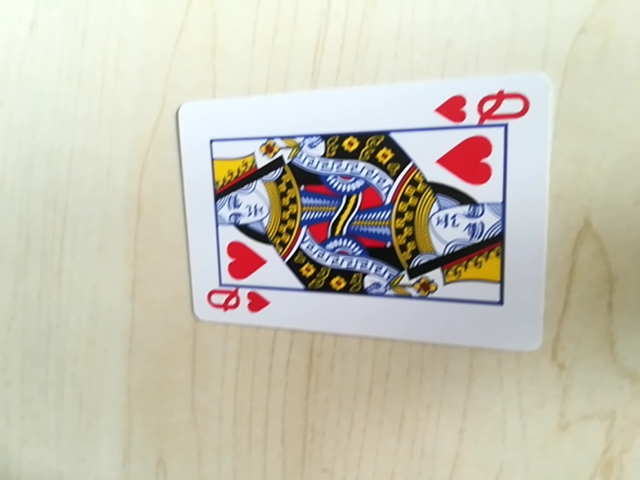hx q: (435, 86, 534, 130), (203, 286, 271, 322)
